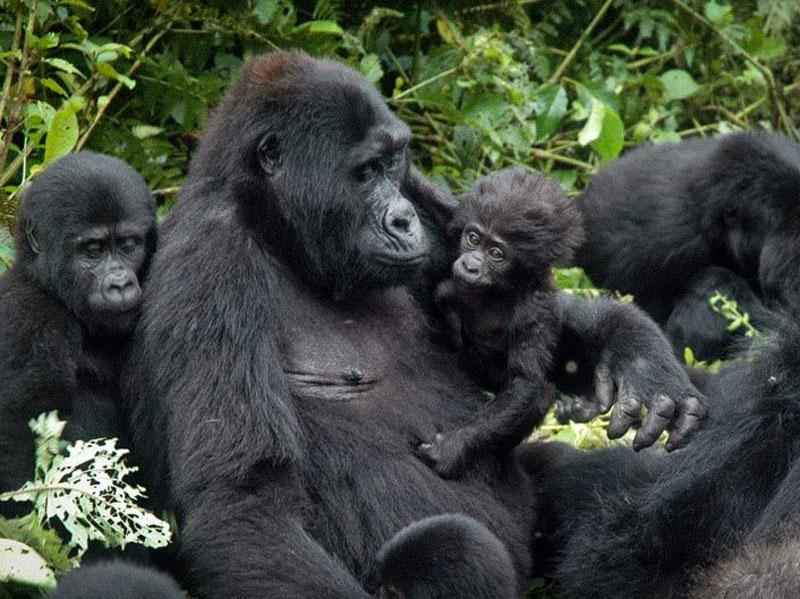goriile_montagne: (170, 47, 529, 599), (0, 127, 163, 531), (422, 140, 601, 470), (595, 102, 800, 378)
